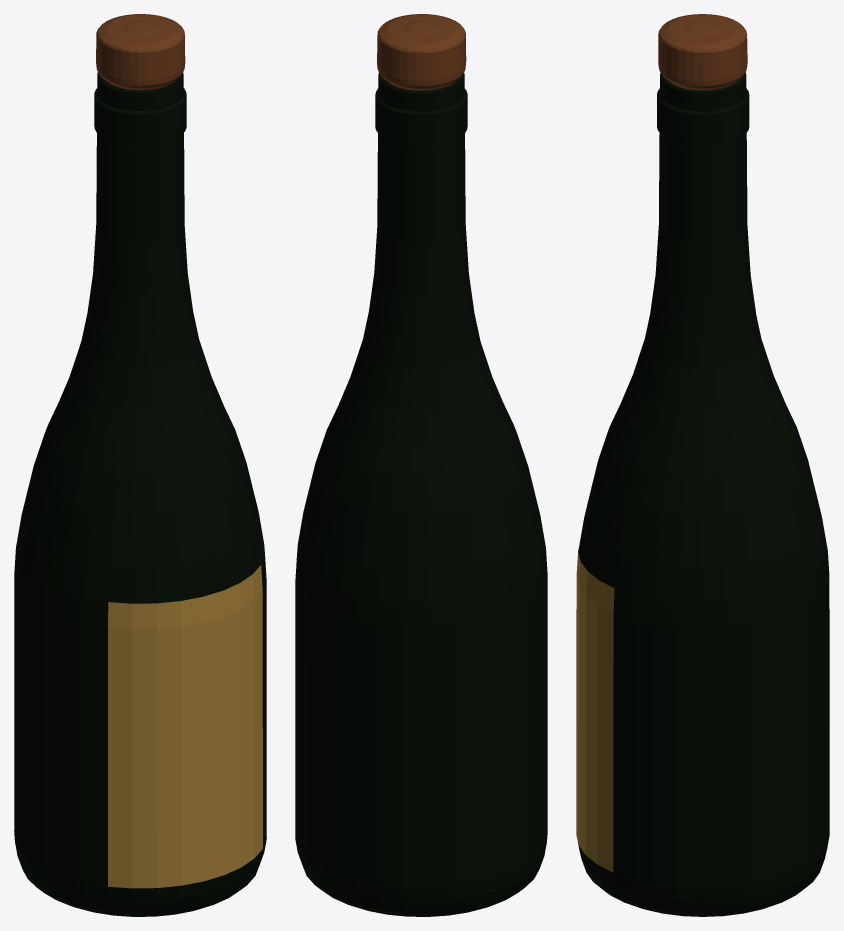
File: Wine_Bottle_Red.obj
3 views of the same model, side by side, from view 1: azimuth 30°, elevation 25°; view 2: azimuth 150°, elevation 25°; view 3: azimuth 270°, elevation 25° (orthographic).
Visible parts, largest first — view 1: Wine_Bottle_Red_Cylinder.004, Wine_Bottle_Red_Label_Cylinder.011, Wine_Bottle_Red_Cork_Cylinder.002; view 2: Wine_Bottle_Red_Cylinder.004, Wine_Bottle_Red_Cork_Cylinder.002; view 3: Wine_Bottle_Red_Cylinder.004, Wine_Bottle_Red_Label_Cylinder.011, Wine_Bottle_Red_Cork_Cylinder.002.
Boxes of the visible parts, left/top/right/bottom form: Wine_Bottle_Red_Cylinder.004: left=14, top=72, right=266, bottom=916; Wine_Bottle_Red_Label_Cylinder.011: left=108, top=565, right=262, bottom=888; Wine_Bottle_Red_Cork_Cylinder.002: left=96, top=14, right=185, bottom=90; Wine_Bottle_Red_Cylinder.004: left=295, top=72, right=547, bottom=916; Wine_Bottle_Red_Cork_Cylinder.002: left=377, top=14, right=466, bottom=90; Wine_Bottle_Red_Cylinder.004: left=577, top=72, right=829, bottom=916; Wine_Bottle_Red_Label_Cylinder.011: left=576, top=549, right=614, bottom=872; Wine_Bottle_Red_Cork_Cylinder.002: left=658, top=14, right=747, bottom=90.
Bounding box in the file's own units: 0.0862 × 0.3175 × 0.0863.
